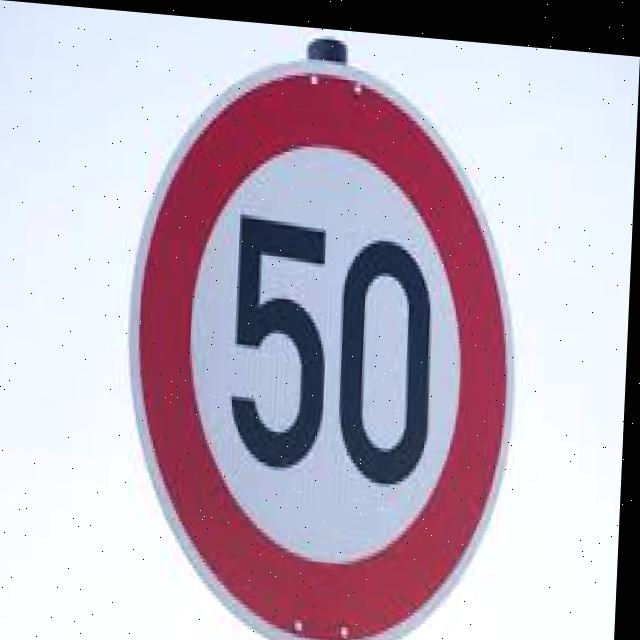Speed limit 50: (119, 32, 531, 640)
